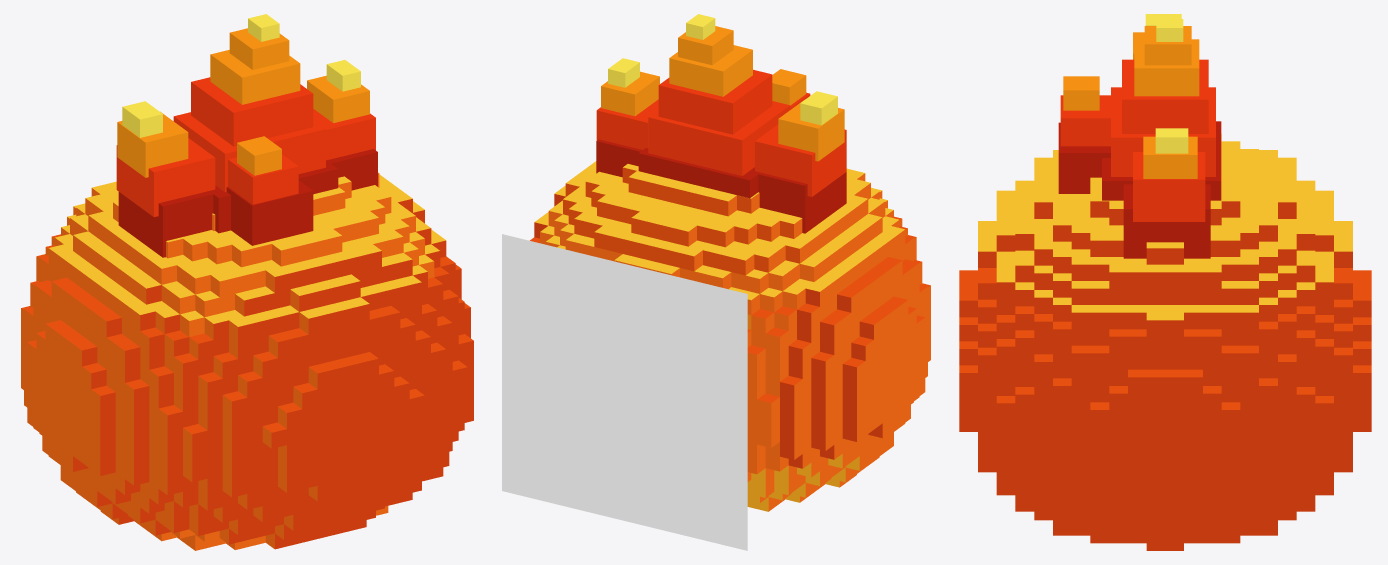
The model's file is slime_pyro.glb.
The picture shows the model from 3 angles, left to right: view 1: azimuth 30°, elevation 25°; view 2: azimuth 150°, elevation 25°; view 3: azimuth 270°, elevation 25°; orthographic projection. The views are drawn at different scales.
Visible parts, largest first — view 1: Shell, PyroFlames; view 2: Shell, Face, PyroFlames; view 3: Shell, PyroFlames.
Boxes of the visible parts, x1,y1,x2,y2 form: Shell: [21, 172, 473, 550]; PyroFlames: [116, 14, 377, 257]; Shell: [530, 161, 930, 511]; Face: [502, 234, 747, 550]; PyroFlames: [596, 14, 846, 233]; Shell: [959, 134, 1371, 550]; PyroFlames: [1058, 14, 1221, 258].
Size of the model in its own units: 1.2 by 1.43 by 1.15.
